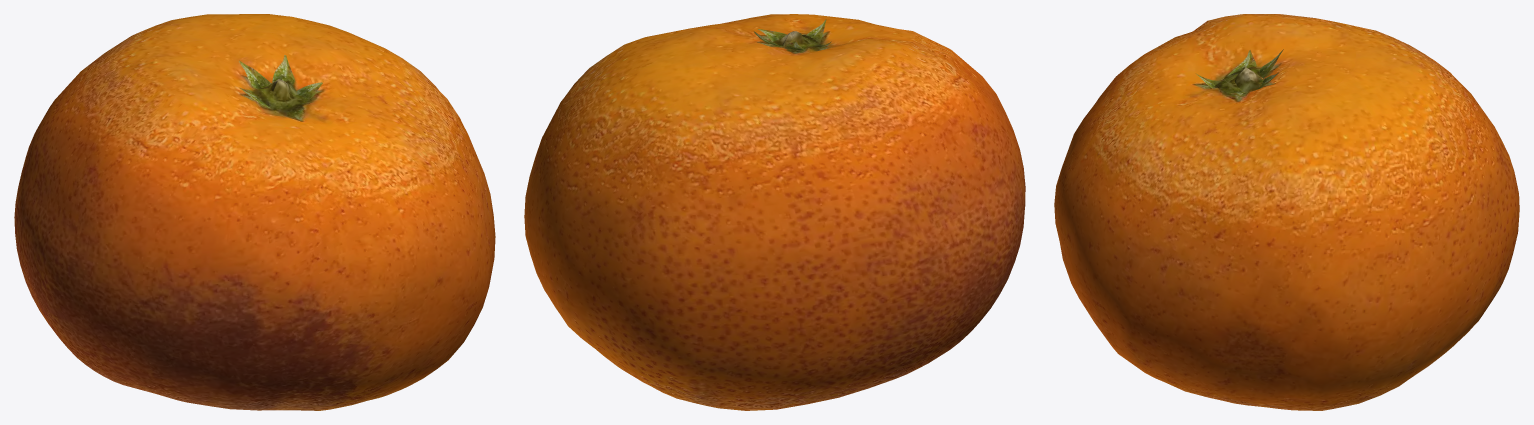
The model's file is tangerine-0.glb.
The picture shows the model from 3 angles, left to right: view 1: azimuth 30°, elevation 25°; view 2: azimuth 150°, elevation 25°; view 3: azimuth 270°, elevation 25°; orthographic projection. The views are drawn at different scales.
Parts seen in each view (by area): view 1: Object_2; view 2: Object_2; view 3: Object_2.
Part boxes in pixels (bbox=[...]): Object_2: bbox=[14, 14, 495, 410]; Object_2: bbox=[524, 14, 1025, 410]; Object_2: bbox=[1054, 14, 1519, 410].
Size of the model in its own units: 0.4907 by 0.3587 by 0.4918.
Materials: 1 (1 with a texture image).
